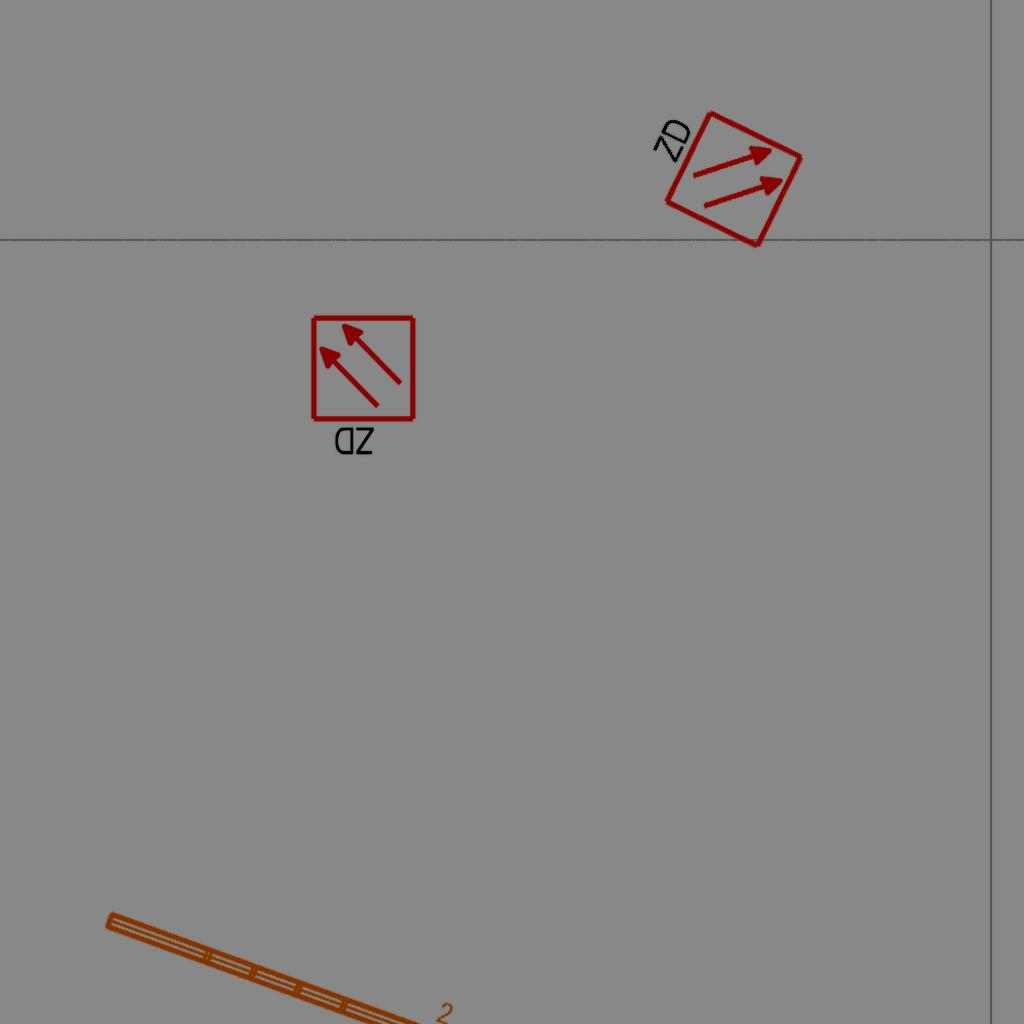Ambulanz_Pendelleuchte_LED: (97, 879, 480, 1024)
ZD_Melder_in_Zwischendecke_mit_Revisionsoeffnung_mind_40_x_40_cm: (624, 88, 808, 257), (308, 313, 422, 462)
